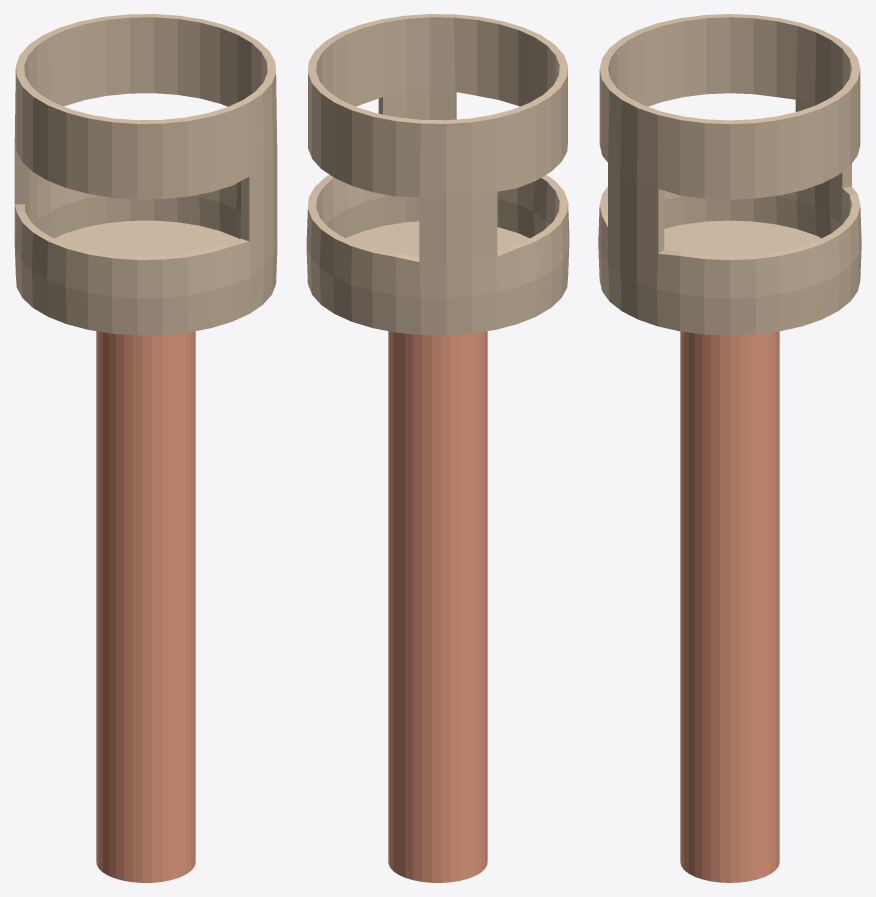
File: Torch V1.fbx
3 views of the same model, side by side, from view 1: azimuth 30°, elevation 25°; view 2: azimuth 150°, elevation 25°; view 3: azimuth 270°, elevation 25° (orthographic).
Parts seen in each view (by area): view 1: Cylinder.001, Cylinder; view 2: Cylinder.001, Cylinder; view 3: Cylinder.001, Cylinder.
Part boxes in pixels (box(x1,y1,x2,y2)): Cylinder.001: box(14, 14, 277, 335); Cylinder: box(96, 331, 195, 882); Cylinder.001: box(306, 14, 569, 335); Cylinder: box(388, 331, 487, 882); Cylinder.001: box(598, 14, 861, 335); Cylinder: box(680, 331, 779, 882).
Size of the model in its own units: 345 by 1145 by 345.
